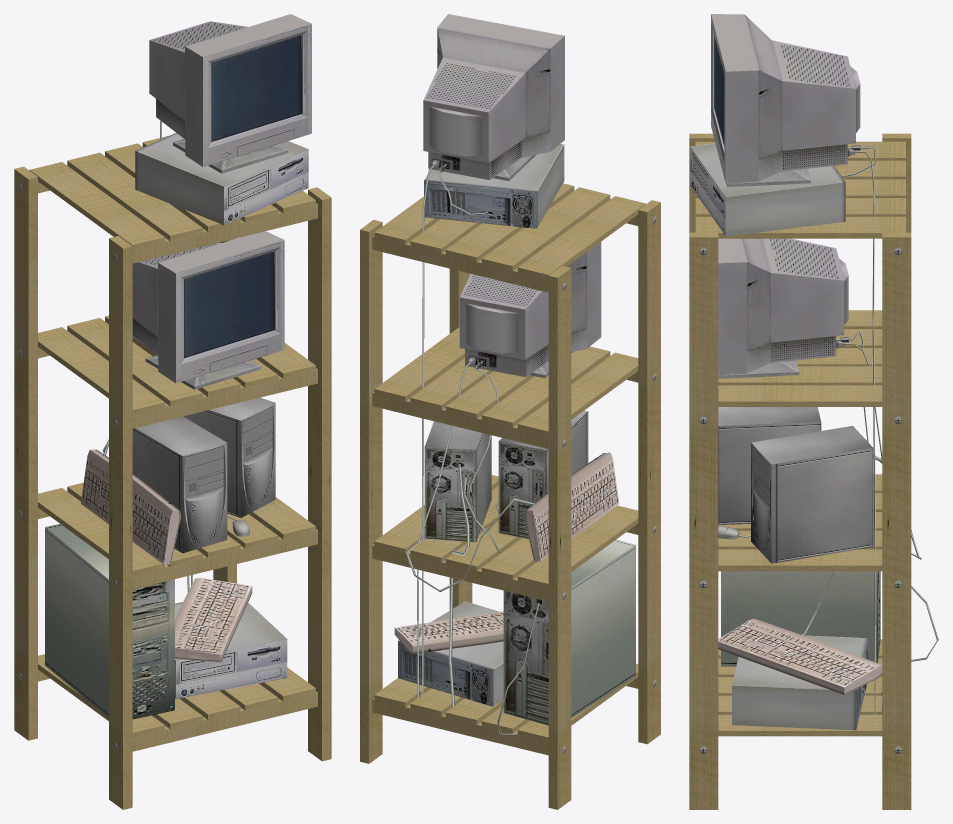
Rendered from computer_shelf.fbx.
3 renders of one model, left to right at view 1: azimuth 30°, elevation 25°; view 2: azimuth 150°, elevation 25°; view 3: azimuth 270°, elevation 25°, orthographic. The views are drawn at different scales.
Parts seen in each view (by area): view 1: mesh_0, mesh_1, mesh_2; view 2: mesh_0, mesh_1, mesh_2; view 3: mesh_0, mesh_1, mesh_2.
Part boxes in pixels (<box>): mesh_0: <box>14,136,331,809</box>; mesh_1: <box>45,133,308,719</box>; mesh_2: <box>102,14,311,592</box>; mesh_0: <box>360,183,660,809</box>; mesh_1: <box>394,144,635,725</box>; mesh_2: <box>406,14,601,735</box>; mesh_0: <box>689,133,911,809</box>; mesh_1: <box>690,143,882,730</box>; mesh_2: <box>711,14,938,714</box>.
Size of the model in its own units: 79.74 by 260 by 79.86.
4 materials, 4 textured.
